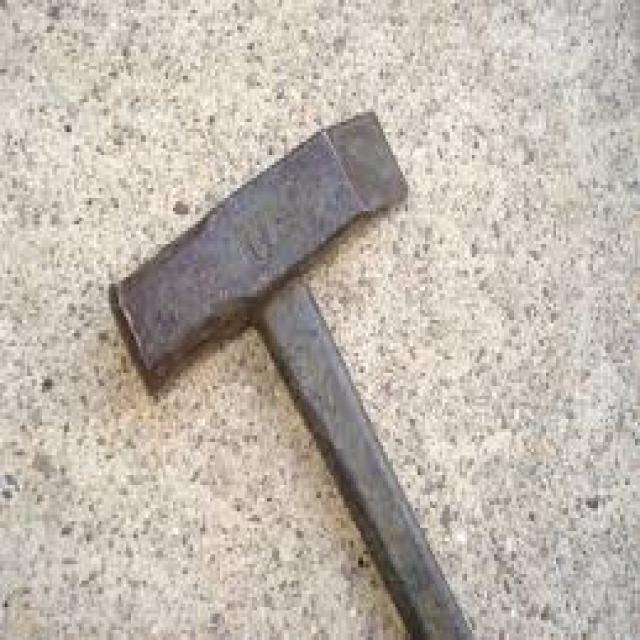hammer: (95, 102, 508, 640)
